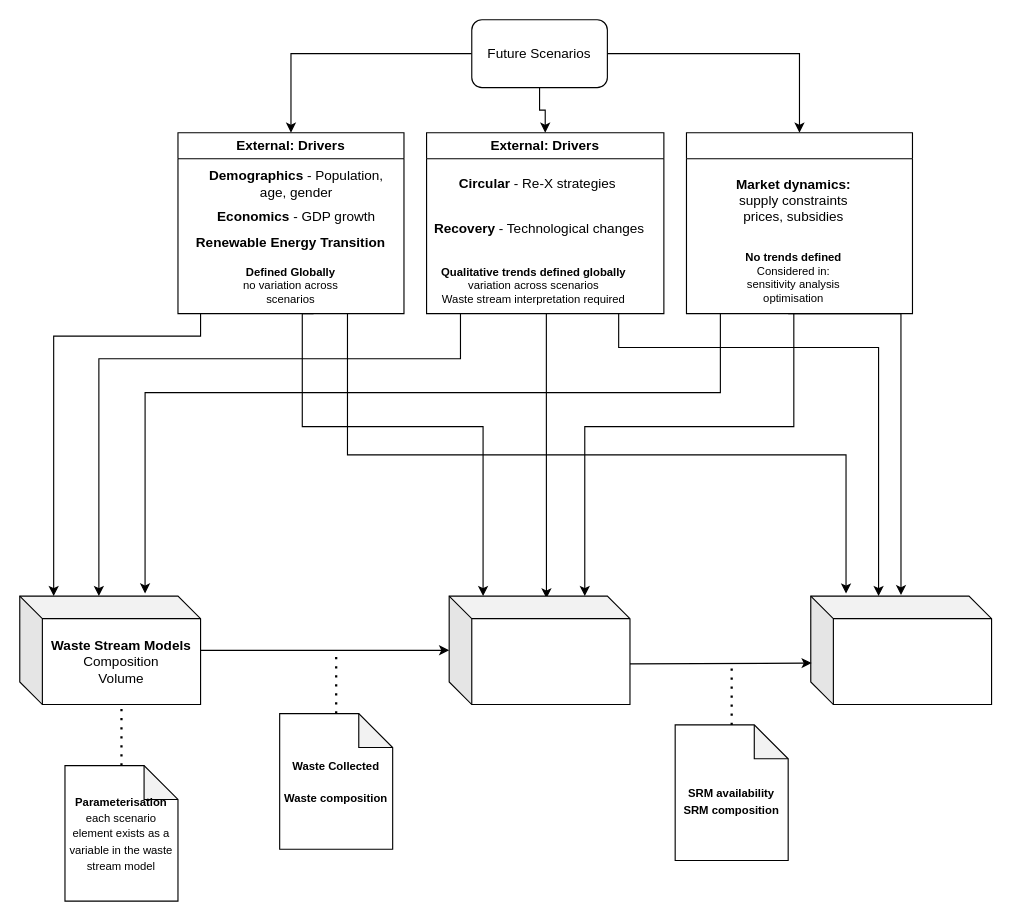
The diagram is 1011 pixels wide and 921 high, and some of its shapes have lost their labels. The shapes that lost their labels are listed below. From the top down, each one's box as (x1, y1, x2, y2) in pixels, then its label:
(685, 132, 912, 314): Outside
(448, 595, 630, 705): Recovery Model
(810, 595, 992, 705): Impact Assessment Model
